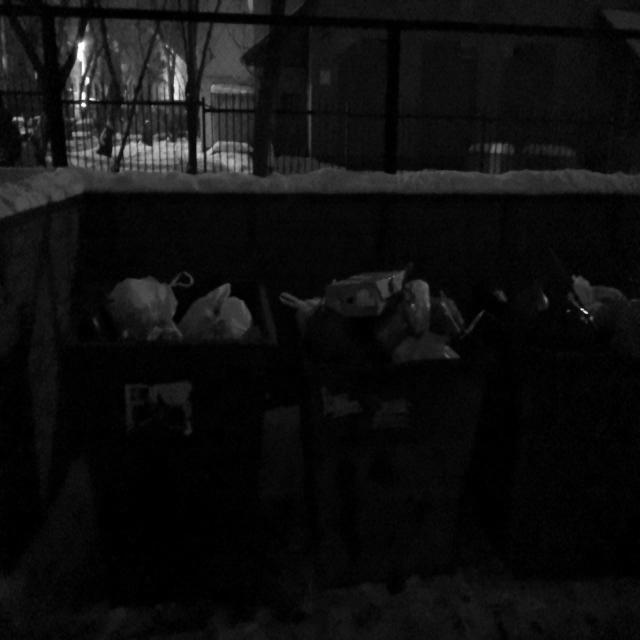Trashcan: (62, 238, 292, 580), (278, 225, 491, 594), (470, 212, 640, 586)
